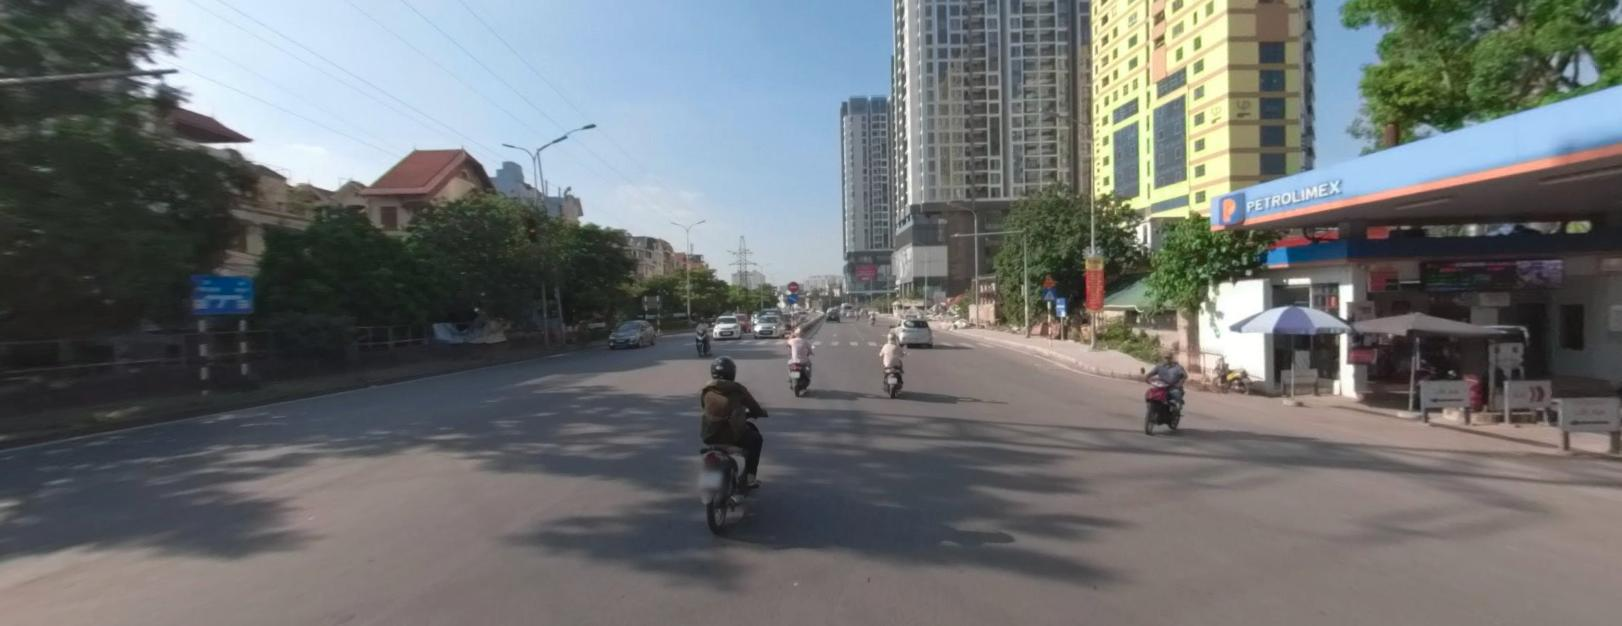Cam nguoc chieu: (788, 280, 798, 290)
Hieu lenh: (787, 291, 797, 300)
Nguy hiem: (1041, 272, 1055, 286)
